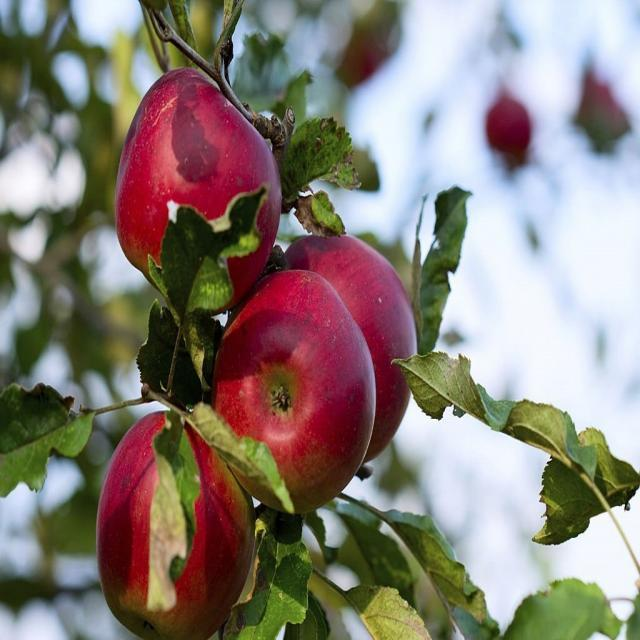Red Apple: (210, 269, 376, 513), (109, 65, 278, 288), (93, 405, 250, 616), (292, 230, 416, 447)
